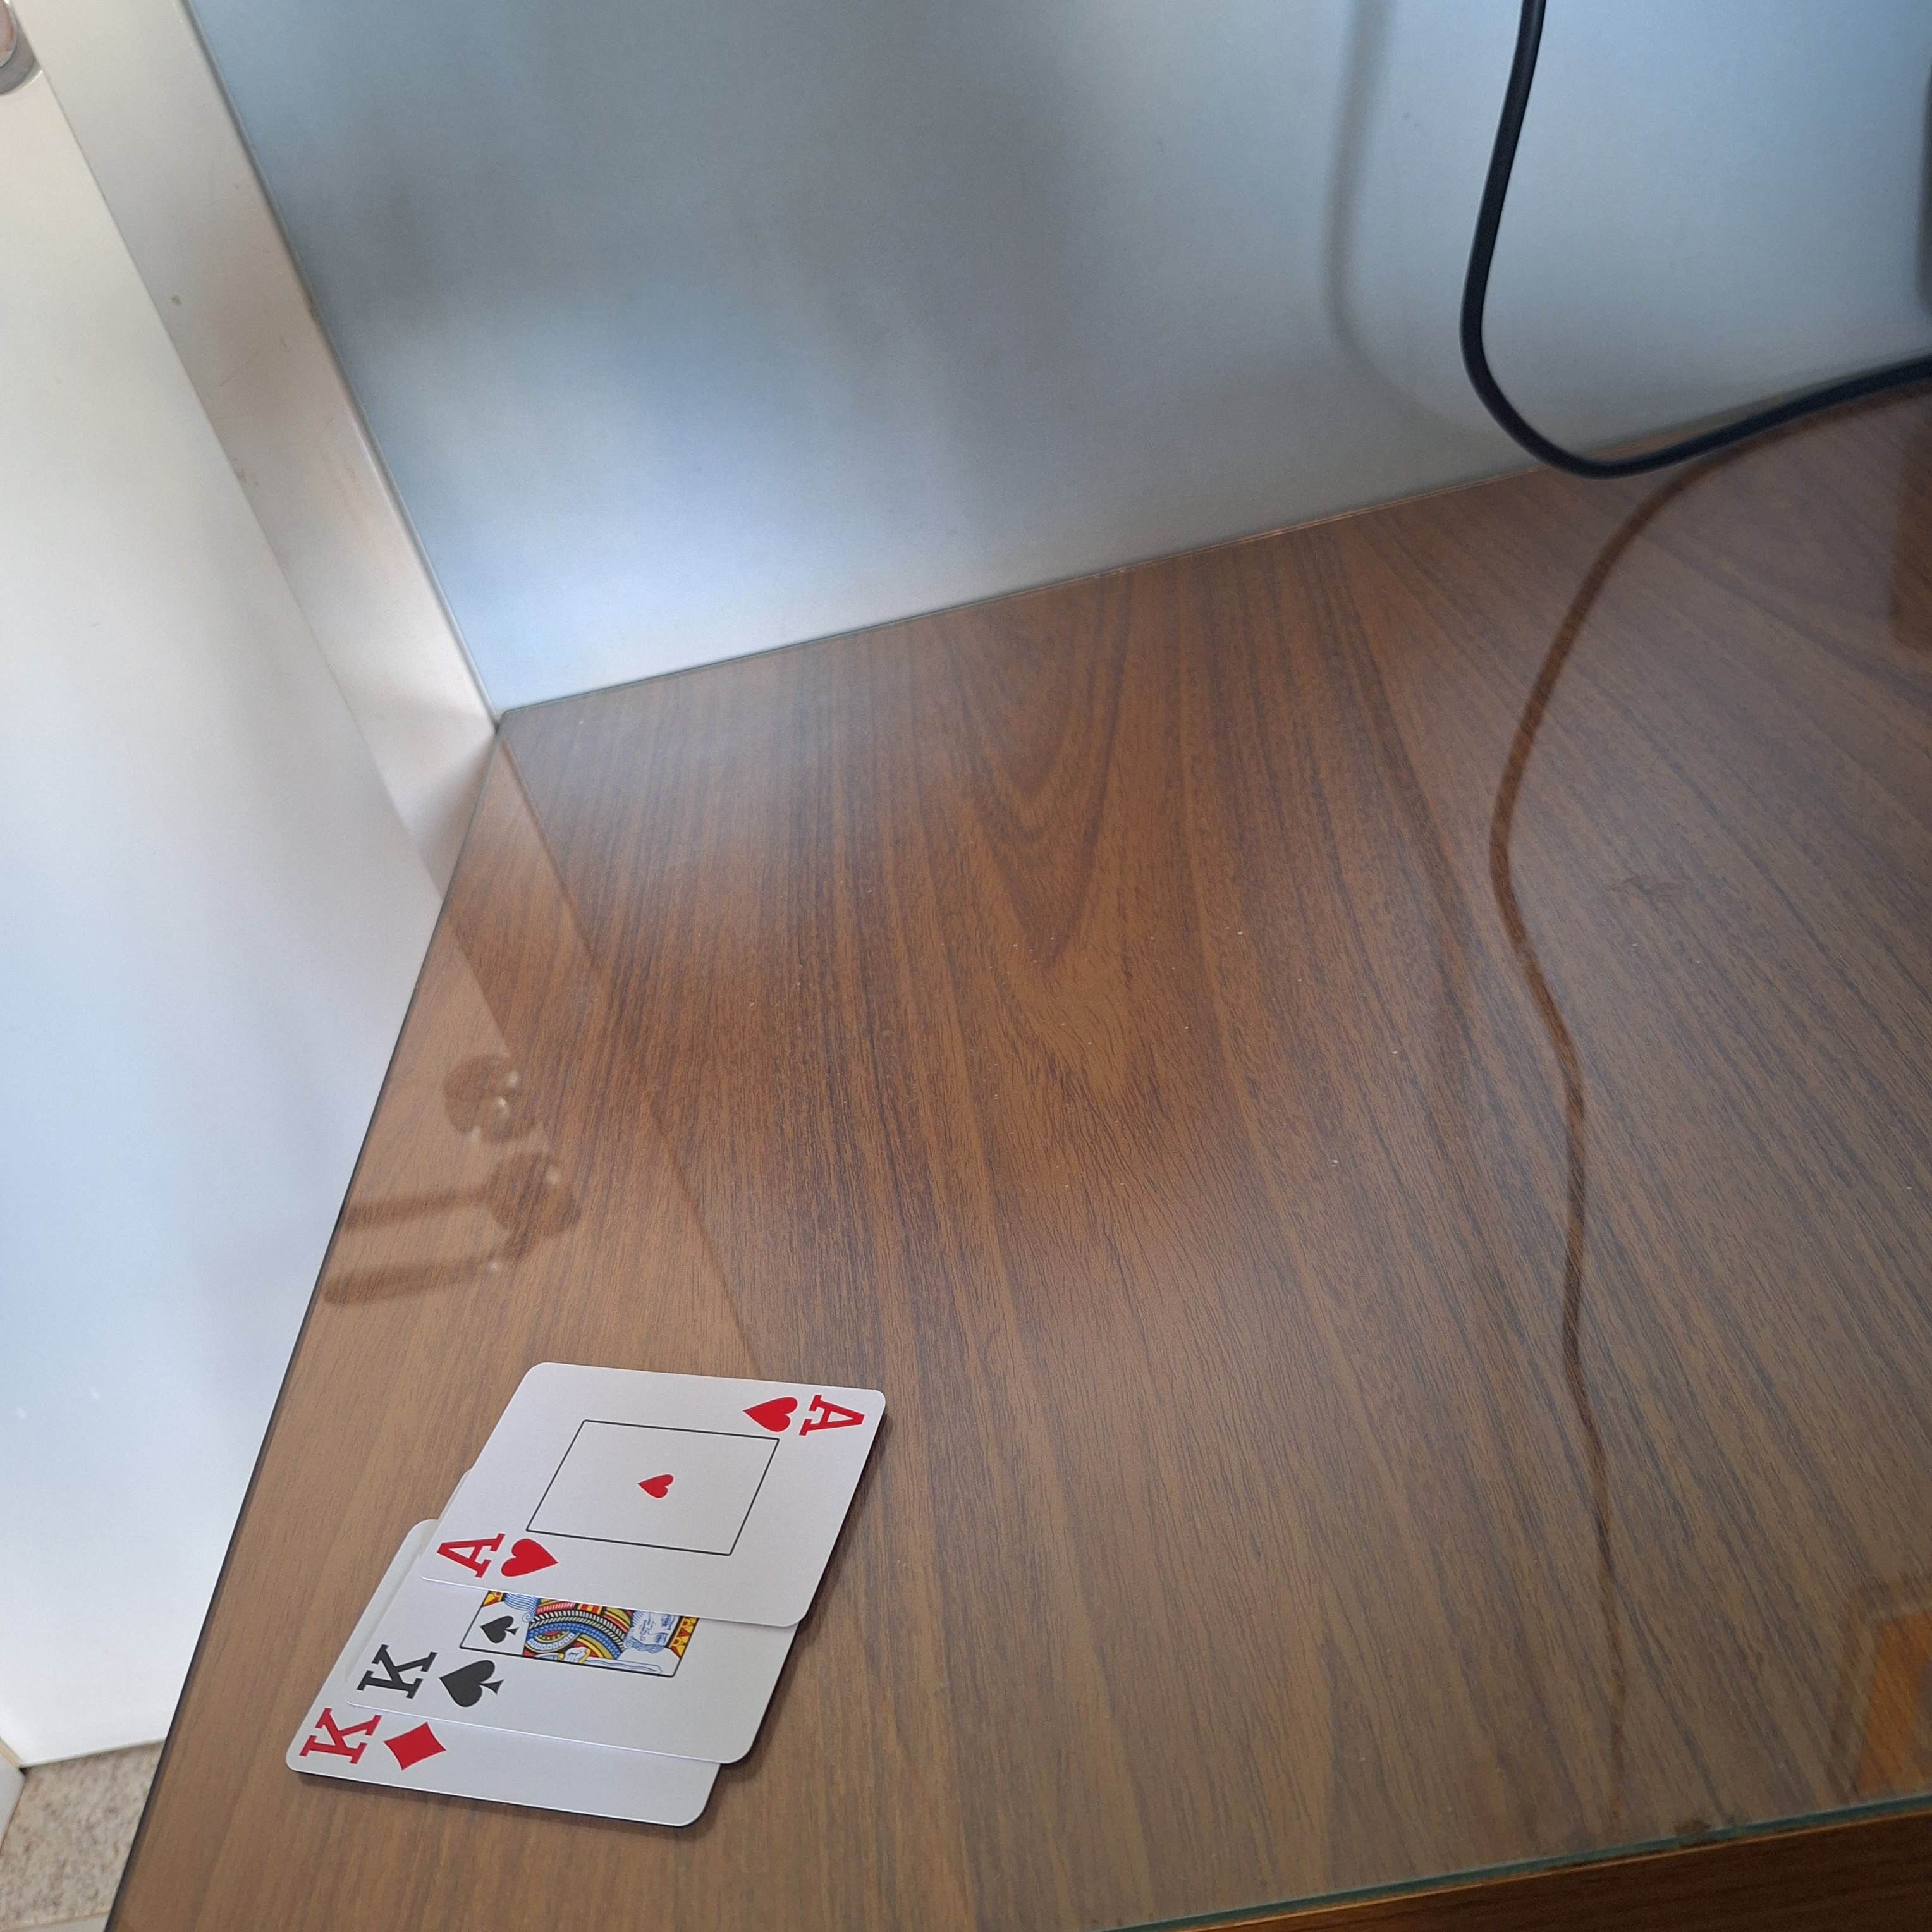AC: (732, 1380, 876, 1445), (428, 1527, 564, 1587)
KE: (350, 1633, 513, 1714)
KO: (294, 1700, 451, 1778)
